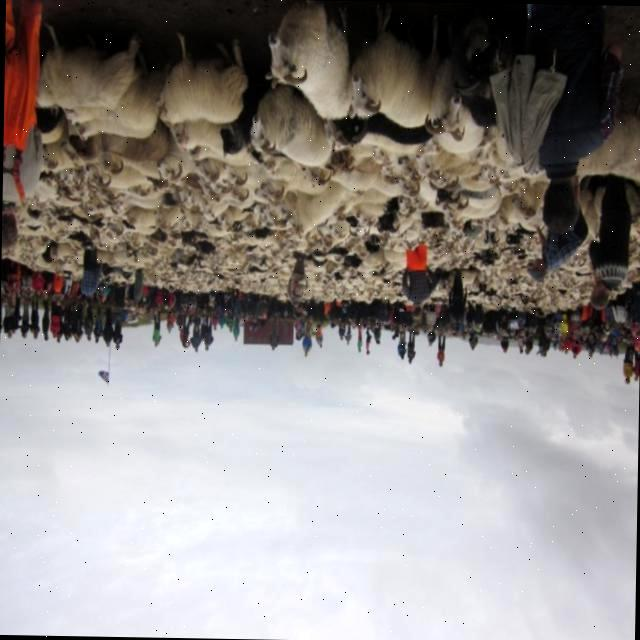sheep: (158, 36, 247, 136)
